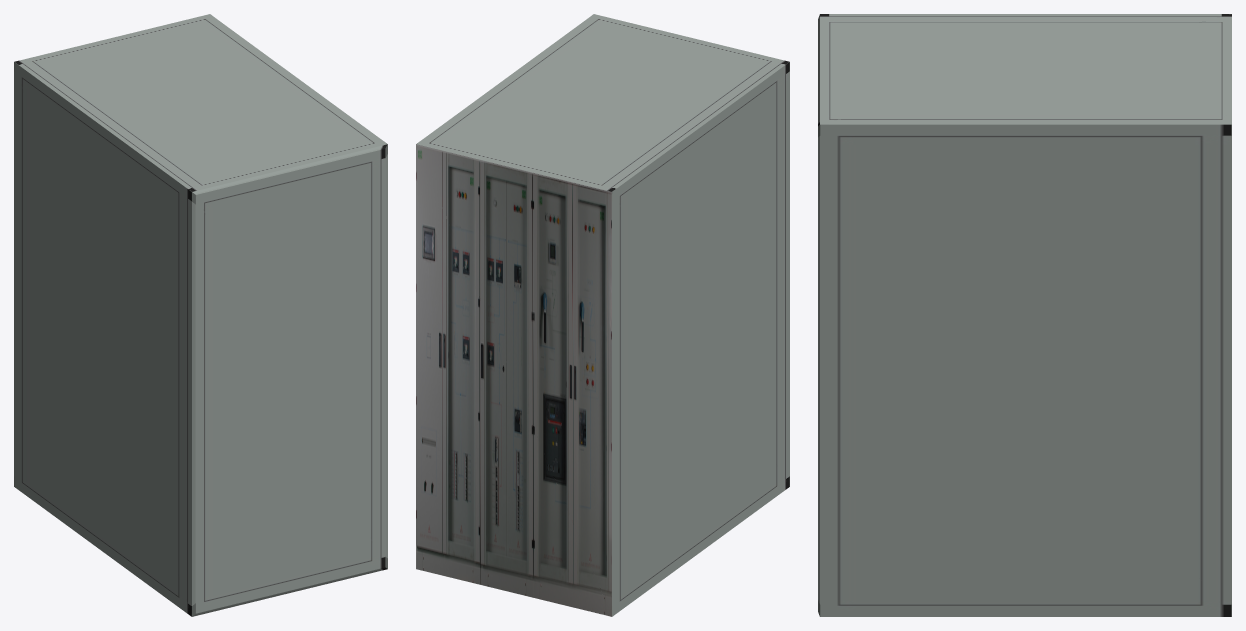
File: cabinet.gltf
3 renders of one model, left to right at view 1: azimuth 30°, elevation 25°; view 2: azimuth 150°, elevation 25°; view 3: azimuth 270°, elevation 25°, orthographic. The views are drawn at different scales.
Visible parts, largest first — view 1: 机柜02; view 2: 机柜02; view 3: 机柜02.
Part boxes in pixels (x1,y1,x2,y2): 机柜02: (14, 14, 387, 616); 机柜02: (416, 14, 789, 616); 机柜02: (818, 14, 1231, 616).
Size of the model in its own units: 0.965 by 2 by 1.52.
Materials: 2 (2 with a texture image).
